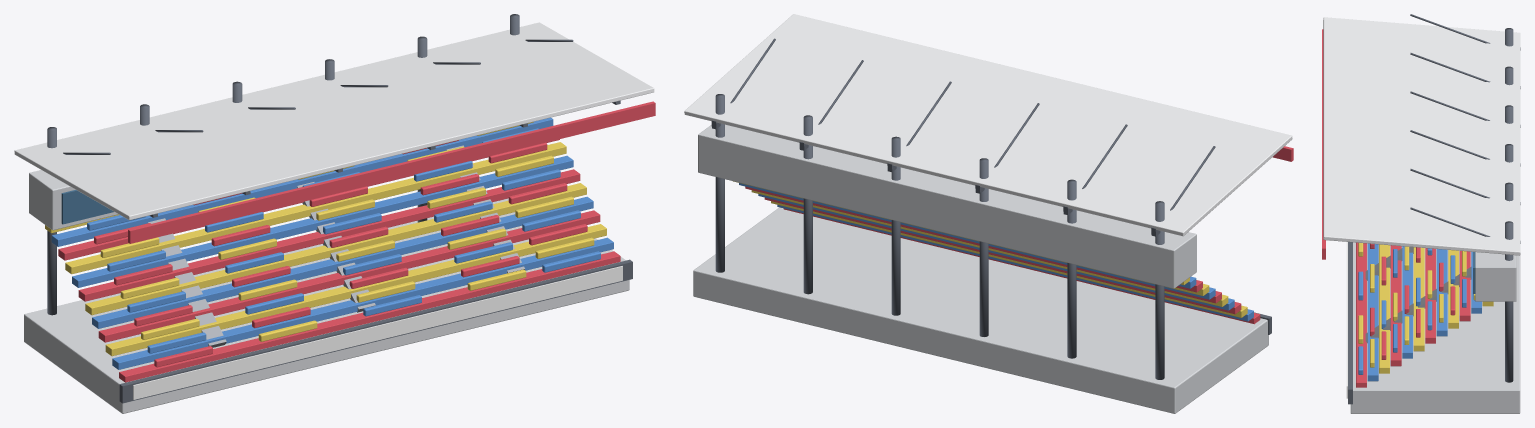
File: grandstand.glb
The picture shows the model from 3 angles, left to right: view 1: azimuth 30°, elevation 25°; view 2: azimuth 150°, elevation 25°; view 3: azimuth 270°, elevation 25°; orthographic projection. The views are drawn at different scales.
Parts seen in each view (by area): view 1: CanopyMain, PodiumBase, CanopyFascia, FrontBanner, SeatTier_0, SeatTier_8, SeatTier_7, SeatTier_6, SeatTier_5, SeatTier_4, SeatTier_3, SeatTier_2 (+9 smaller); view 2: CanopyMain, PodiumBase, VipSuiteBox, RearMast_3.1, RearMast_-9.3, RearMast_-15.5, SeatTier_3, RearMast_15.5, RearMast_-3.1, RearMast_9.3, SeatTier_5, SeatTier_6 (+5 smaller); view 3: CanopyMain, PodiumBase, VipSuiteBox, SeatTier_1, SeatTier_0, SeatTier_3, SeatTier_2, RearMast_15.5, SeatTier_5, SeatTier_4, FrontWall, SeatTier_7 (+14 smaller).
Boxes of the visible parts, box(x1,y1,x2,y2) form: CanopyMain: box(14, 22, 654, 220); PodiumBase: box(24, 198, 629, 413); CanopyFascia: box(128, 101, 655, 243); FrontBanner: box(133, 266, 622, 399); SeatTier_0: box(119, 251, 620, 382); SeatTier_8: box(65, 142, 566, 274); SeatTier_7: box(72, 155, 573, 287); SeatTier_6: box(78, 169, 580, 301); SeatTier_5: box(85, 183, 586, 315); SeatTier_4: box(92, 196, 593, 328); SeatTier_3: box(98, 210, 600, 342); SeatTier_2: box(105, 224, 606, 356); CanopyMain: box(684, 14, 1292, 236); PodiumBase: box(693, 207, 1268, 413); VipSuiteBox: box(698, 124, 1196, 288); RearMast_3.1: box(891, 136, 900, 315); RearMast_-9.3: box(1067, 179, 1076, 358); RearMast_-15.5: box(1155, 201, 1164, 379); SeatTier_3: box(764, 197, 1241, 314); RearMast_15.5: box(715, 94, 724, 272); RearMast_-3.1: box(979, 158, 988, 336); RearMast_9.3: box(803, 115, 812, 294); SeatTier_5: box(751, 190, 1228, 306); SeatTier_6: box(745, 186, 1221, 303); CanopyMain: box(1323, 17, 1520, 255); PodiumBase: box(1350, 242, 1520, 413); VipSuiteBox: box(1475, 252, 1516, 301); SeatTier_1: box(1367, 243, 1378, 381); SeatTier_0: box(1356, 242, 1366, 387); SeatTier_3: box(1390, 245, 1401, 366); SeatTier_2: box(1379, 244, 1389, 373); RearMast_15.5: box(1505, 221, 1513, 382); SeatTier_5: box(1413, 247, 1424, 351); SeatTier_4: box(1402, 246, 1412, 358); FrontWall: box(1348, 242, 1352, 404); SeatTier_7: box(1436, 249, 1447, 336).
Bounding box in the file's own units: 35.2 × 14.77 × 13.48.
